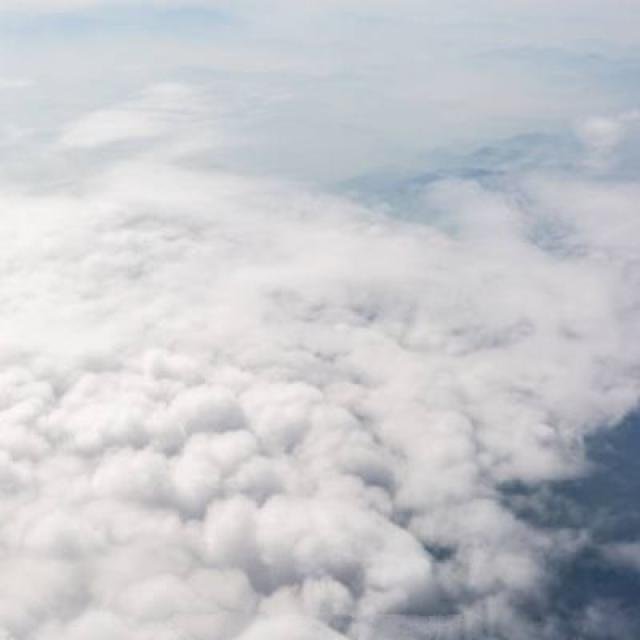Cs: (14, 140, 640, 617)
